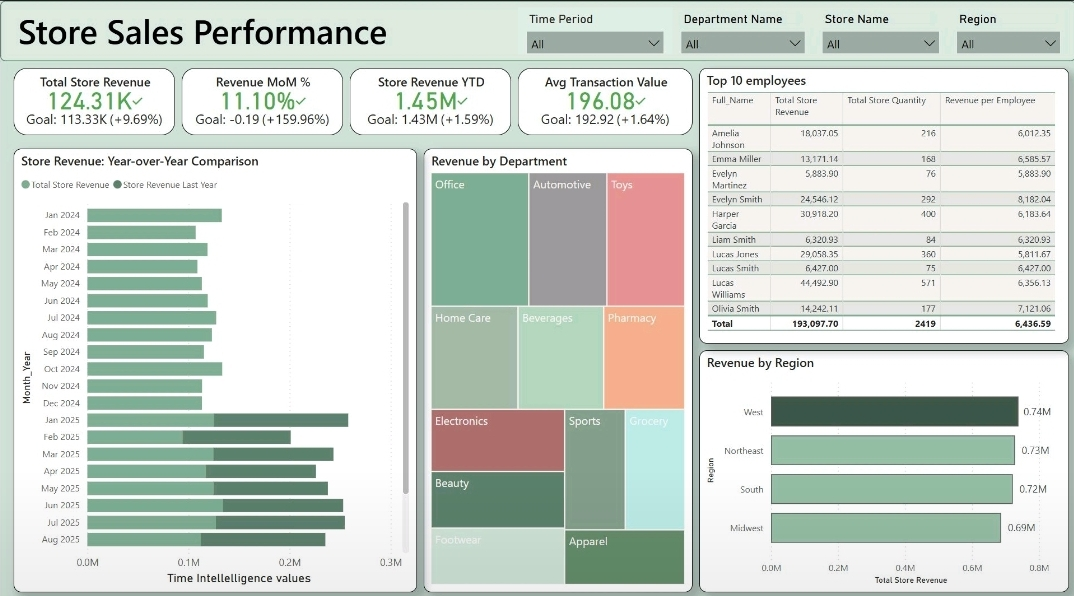

What the dashboard file says about the page in this screenshot:
{"tool":"powerbi","page":{"name":"Store Sales Performance","canvas":[1280,720],"ordinal":1},"visuals":[{"type":"shape","box":[0,0,1280,72.2],"z":0},{"type":"textbox","title":"Store Sales Performance","box":[15.6,7.8,580,47.8],"z":1000},{"type":"treemap","title":"Revenue by Department","fields":{"Group":["gold dim_product.Product Hierarchy.Department_Name","gold dim_product.Product Hierarchy.Brand_Name","gold dim_product.Product Hierarchy.Product_Name"],"Values":["measure.Total Store Revenue"]},"box":[504,176,320,528],"z":2000},{"type":"barChart","title":"Store Revenue: Year-over-Year Comparison","fields":{"Category":["gold dim_date.Month_Year"],"Y":["measure.Total Store Revenue","measure.Store Revenue Last Year"]},"box":[16,176,480,528],"z":3000},{"type":"slicer","fields":{"Values":["gold dim_store.Region"]},"box":[1128,8,144,56],"z":4000},{"type":"clusteredBarChart","title":"Revenue by Region","fields":{"Category":["gold dim_store.Region"],"Y":["measure.Total Store Revenue"]},"box":[832,416,440,288],"z":5000},{"type":"kpi","title":" Total Store Revenue","fields":{"Indicator":["measure.Total Store Revenue"],"TrendLine":["gold dim_date.Month_Year"],"Goal":["measure.Store Revenue Last Year"]},"box":[16,80,192,80],"z":6000},{"type":"kpi","title":"Store Revenue YTD","fields":{"Indicator":["measure.Store Revenue YTD"],"TrendLine":["gold dim_date.Month_Year"],"Goal":["measure.Target Store Revenue YTD"]},"box":[416,80,192,80],"z":7000},{"type":"kpi","title":"Revenue MoM %","fields":{"Indicator":["measure.Store Revenue MoM %"],"TrendLine":["gold dim_date.Month_Year"],"Goal":["measure.Target Store Revenue MoM %"]},"box":[216,80,192,80],"z":8000},{"type":"kpi","title":"Avg Transaction Value","fields":{"Indicator":["measure.Avg Transaction Value"],"TrendLine":["gold dim_date.Month_Year"],"Goal":["measure.Target Avg Transaction Value"]},"box":[616,80,208,80],"z":9000},{"type":"tableEx","title":"Top 10 employees ","fields":{"Values":["gold dim_employee.Full_Name","measure.Total Store Revenue","measure.Total Store Quantity","measure.Revenue per Employee"]},"box":[832,80,440,328],"z":10000},{"type":"slicer","fields":{"Values":["gold dim_store.Store_Name"]},"box":[968,8,160,56],"z":11000},{"type":"slicer","fields":{"Values":["gold dim_product.Product Hierarchy.Department_Name"]},"box":[800,8,168,56],"z":12000},{"type":"slicer","fields":{"Values":["Time Calculation.Time Period"]},"box":[616,8,184,56],"z":13000}]}

Visuals, with their boxes in screenshot pixels (x1, y1, x2, y2), scaled from the page's 1280x720 canvas onto the 1074x596 screenshot:
shape: x1=0 y1=0 x2=1073 y2=60
"Store Sales Performance" textbox: x1=13 y1=6 x2=500 y2=46
"Revenue by Department" treemap: x1=423 y1=146 x2=691 y2=583
"Store Revenue: Year-over-Year Comparison" barChart: x1=13 y1=146 x2=416 y2=583
slicer - gold dim_store.Region: x1=946 y1=7 x2=1067 y2=53
"Revenue by Region" clusteredBarChart: x1=698 y1=344 x2=1067 y2=583
" Total Store Revenue" kpi: x1=13 y1=66 x2=175 y2=132
"Store Revenue YTD" kpi: x1=349 y1=66 x2=510 y2=132
"Revenue MoM %" kpi: x1=181 y1=66 x2=342 y2=132
"Avg Transaction Value" kpi: x1=517 y1=66 x2=691 y2=132
"Top 10 employees " tableEx: x1=698 y1=66 x2=1067 y2=338
slicer - gold dim_store.Store_Name: x1=812 y1=7 x2=946 y2=53
slicer - gold dim_product.Product Hierarchy.Department_Name: x1=671 y1=7 x2=812 y2=53
slicer - Time Calculation.Time Period: x1=517 y1=7 x2=671 y2=53
